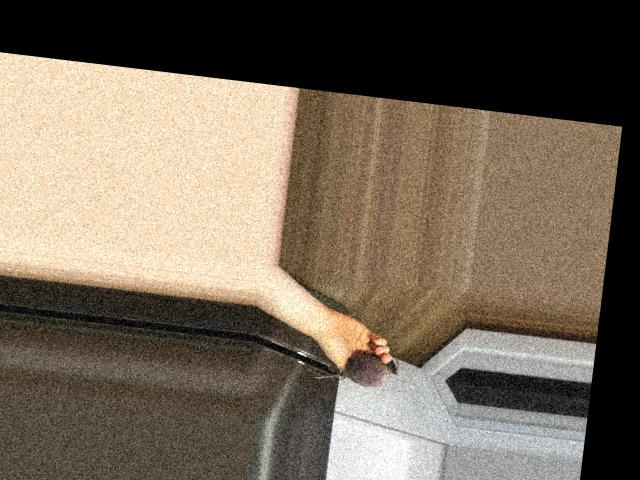beet: (315, 348, 400, 390)
